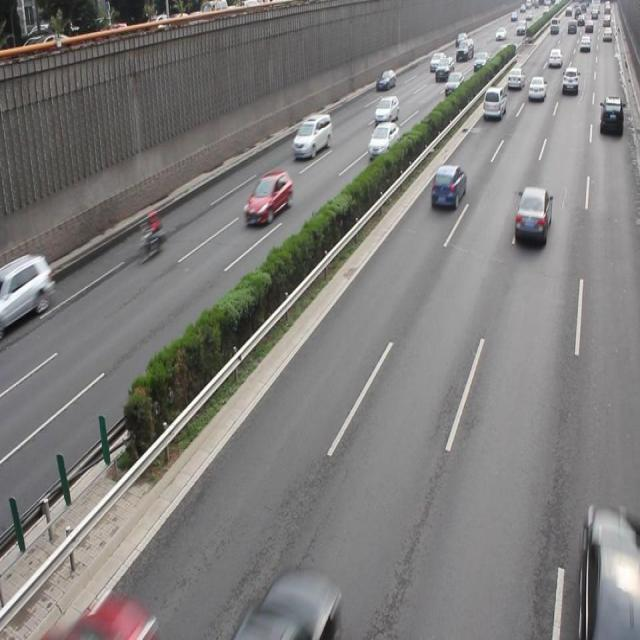car: (580, 503, 640, 640), (237, 562, 342, 640), (48, 594, 159, 640), (1, 254, 56, 328), (245, 171, 291, 224), (513, 186, 548, 244), (293, 112, 332, 162), (430, 163, 466, 210), (368, 120, 400, 160), (598, 95, 622, 134), (374, 93, 398, 124)
truck: (480, 85, 505, 120)
